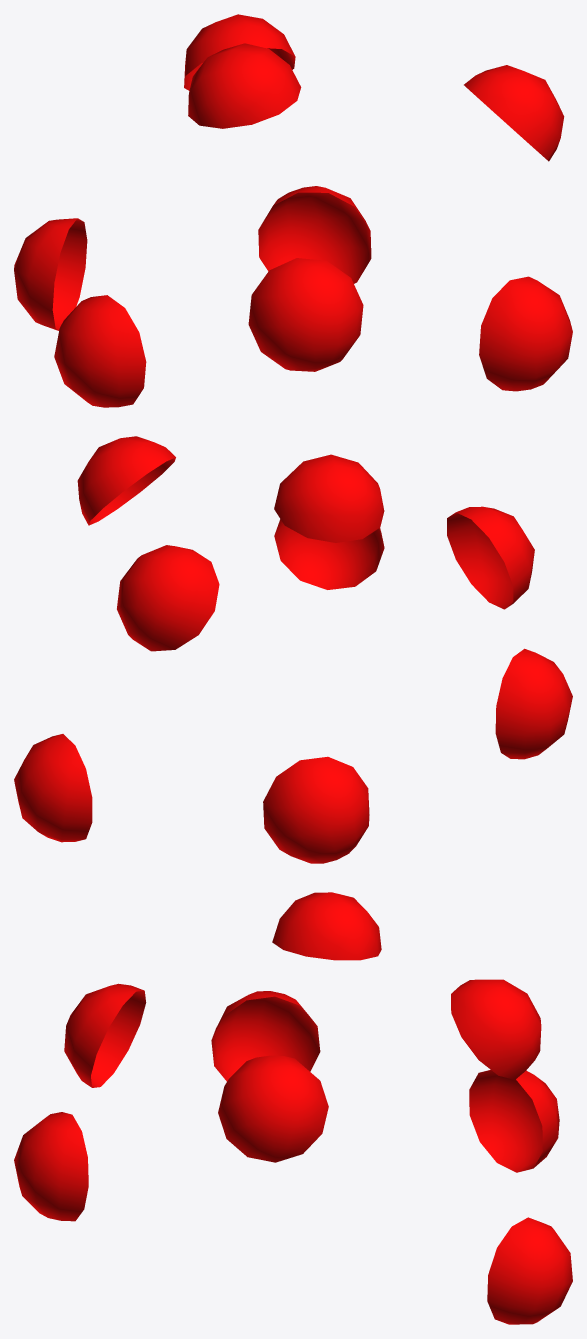
File: Berries.obj
3 views of the same model, one above another, from view 1: azimuth 30°, elevation 25°; view 2: azimuth 150°, elevation 25°; view 3: azimuth 270°, elevation 25° (orthographic). The views are drawn at different scales.
Parts seen in each view (by area): view 1: Sphere005; view 2: Sphere005; view 3: Sphere005.
Boxes of the visible parts, bbox=[...] form: Sphere005: bbox=[14, 14, 572, 407]; Sphere005: bbox=[14, 436, 572, 863]; Sphere005: bbox=[14, 892, 572, 1324].
Size of the model in its own units: 24.16 by 16.75 by 24.69.
